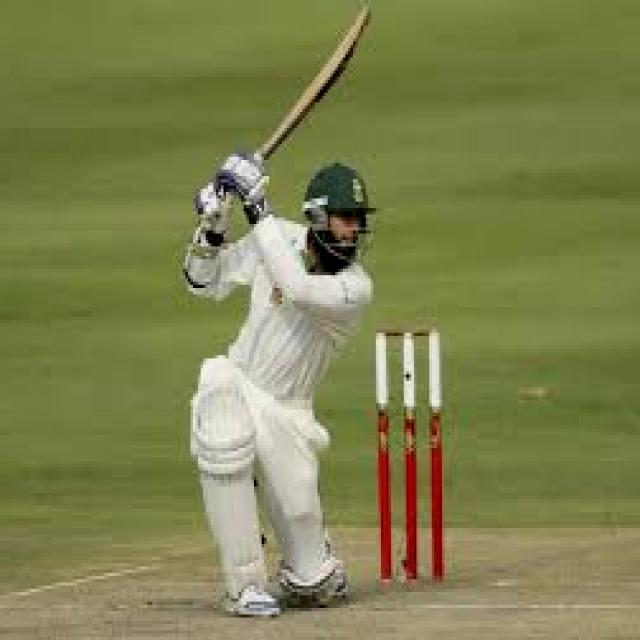toe: (332, 2, 369, 68)
